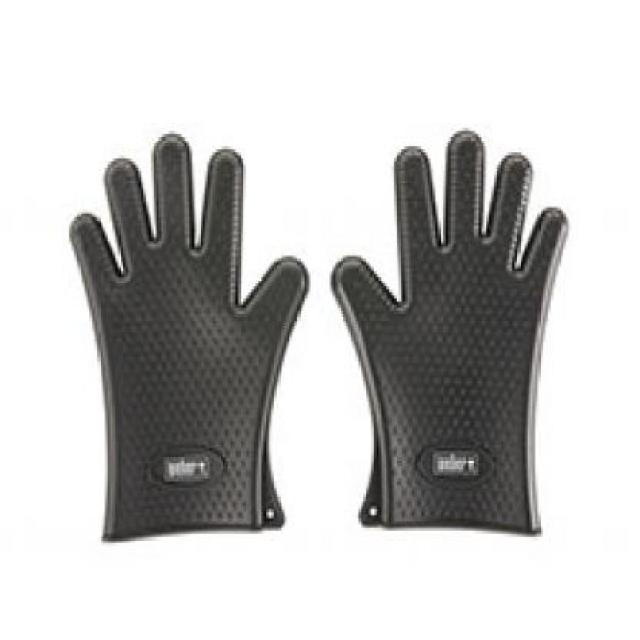gloved_hand: (42, 130, 310, 541), (326, 131, 572, 540)
